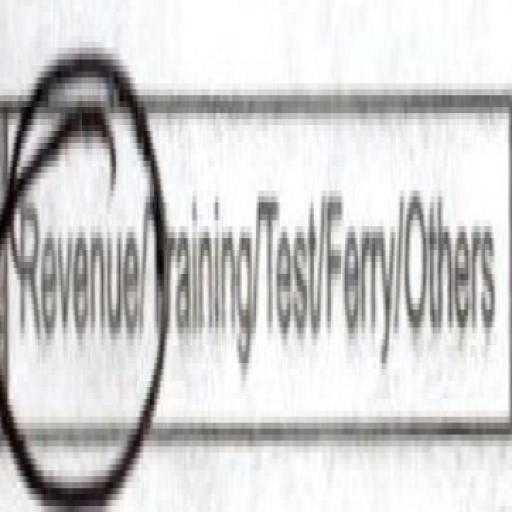check: (0, 11, 159, 507)
